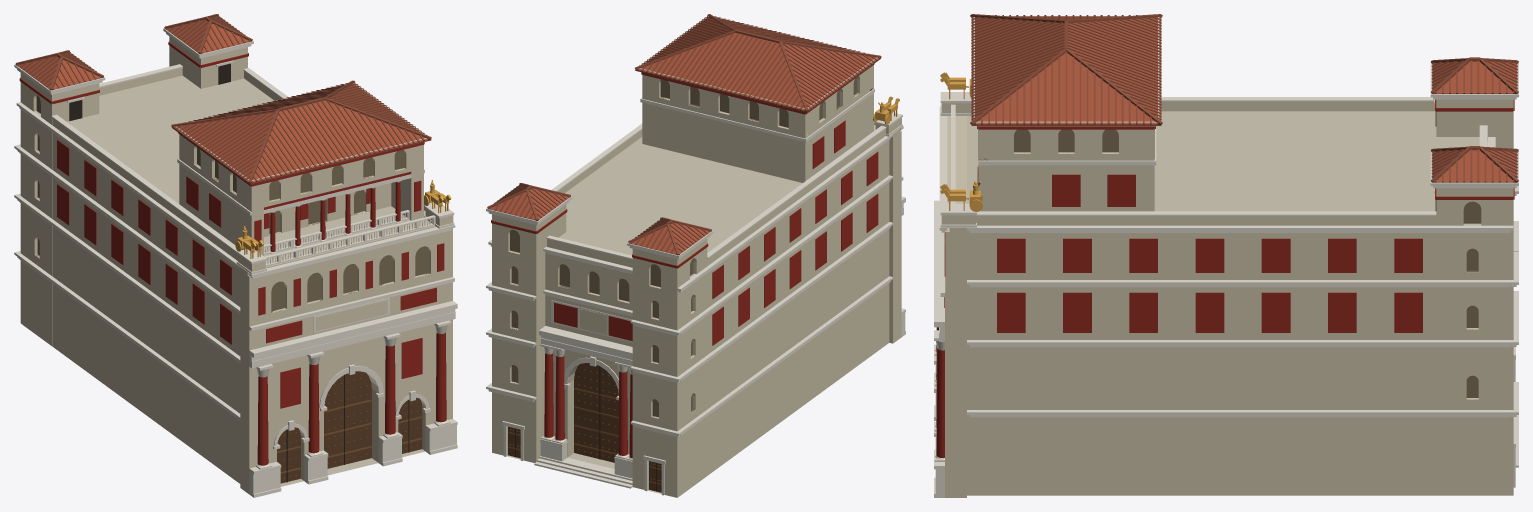
Rendered from rome_circus_gate_e.glb.
3 renders of one model, left to right at view 1: azimuth 30°, elevation 25°; view 2: azimuth 150°, elevation 25°; view 3: azimuth 270°, elevation 25°, orthographic. The views are drawn at different scales.
Visible parts, largest first — view 1: rome_circus_gate_e; view 2: rome_circus_gate_e; view 3: rome_circus_gate_e.
Part boxes in pixels (x1,y1,x2,y2): rome_circus_gate_e: (14,14,457,497); rome_circus_gate_e: (486,14,905,497); rome_circus_gate_e: (934,14,1518,497).
Size of the model in its own units: 26 by 40.27 by 53.
